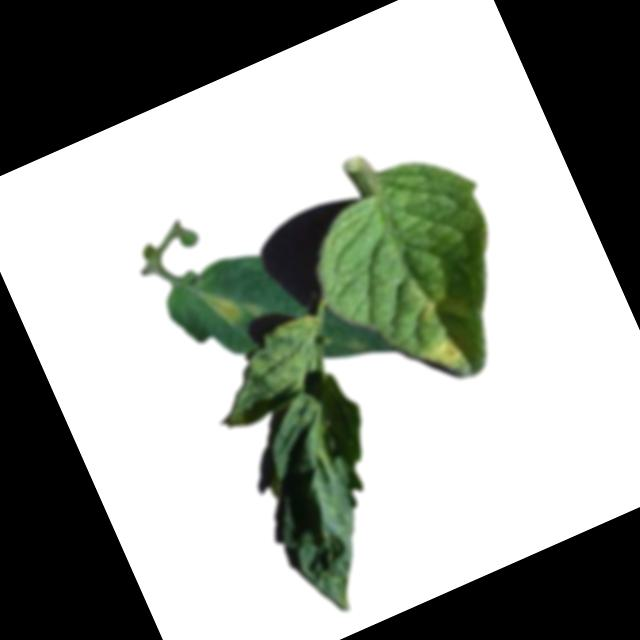Leaf_Mold: (416, 331, 466, 378), (201, 285, 247, 335)
